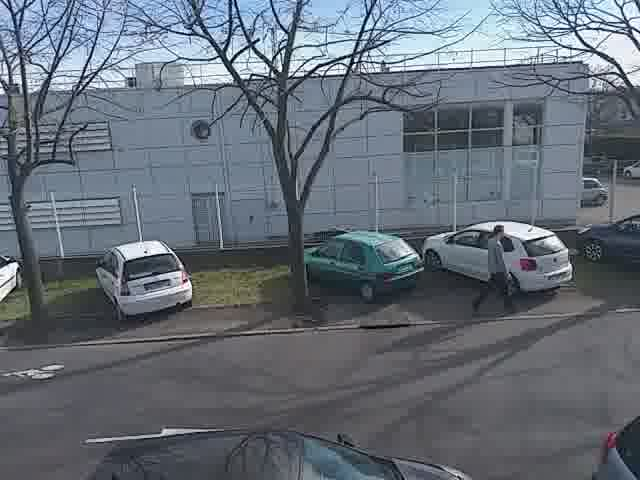persona: (471, 218, 516, 318)
